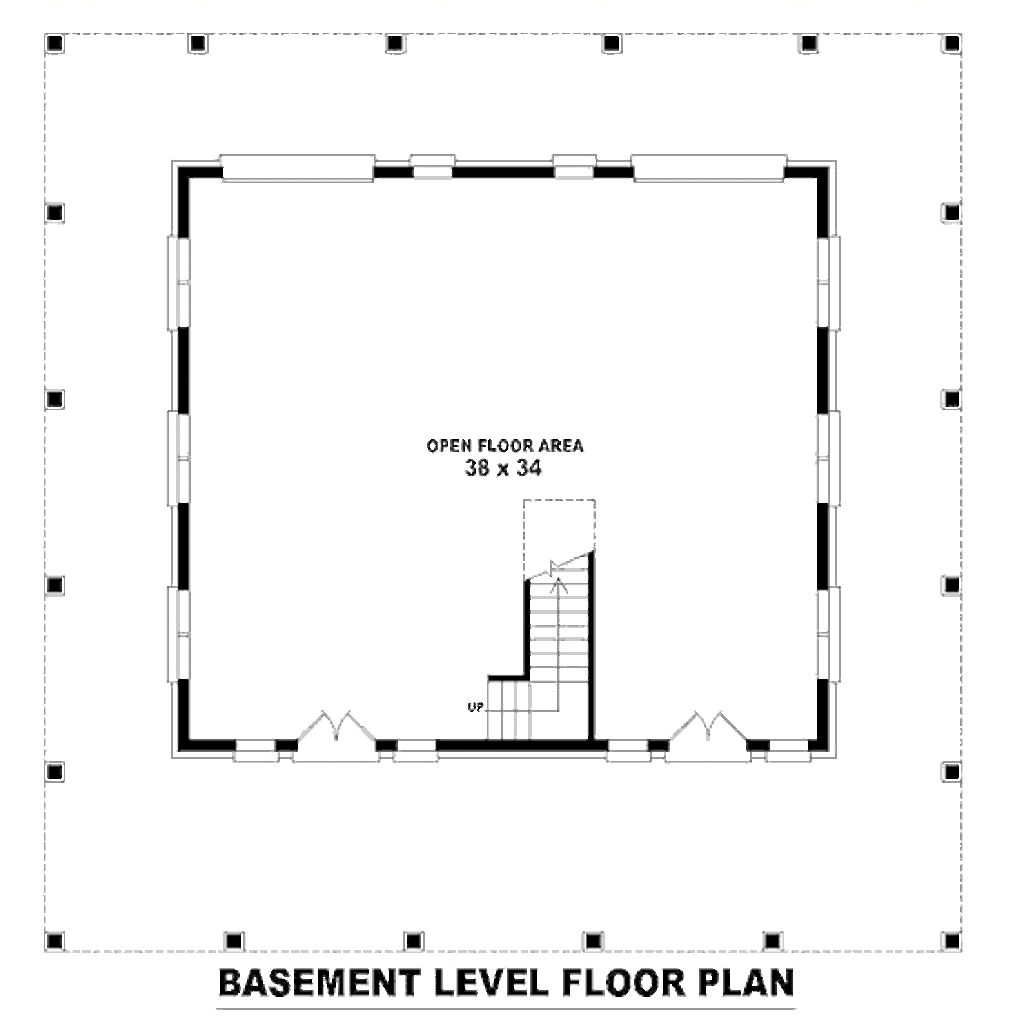door: (289, 703, 376, 747), (661, 709, 743, 751)
stairs: (454, 554, 601, 741)
windows: (159, 229, 192, 332), (814, 408, 842, 520), (814, 231, 843, 339), (163, 408, 192, 513), (813, 584, 843, 681), (167, 584, 190, 685)
